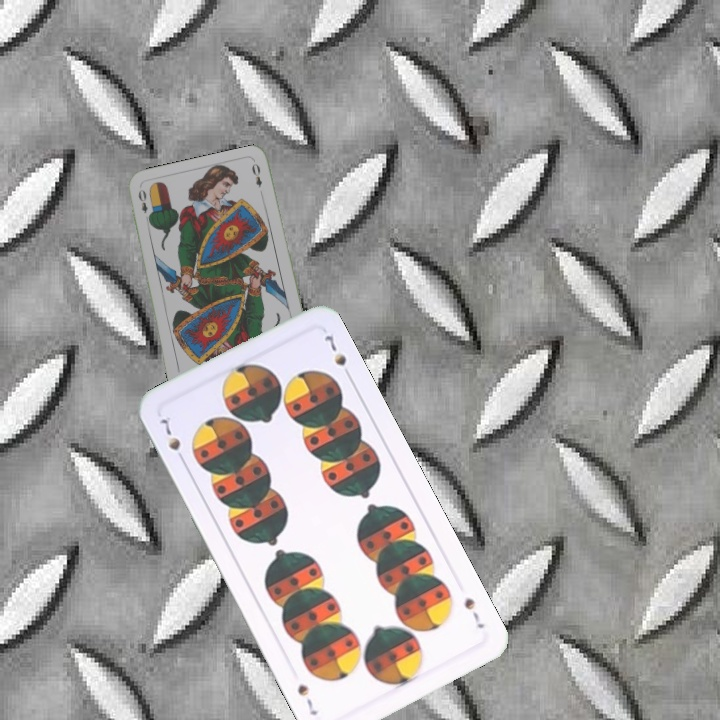EO: (134, 185, 153, 225)
S7: (155, 411, 188, 467), (460, 594, 487, 632)
